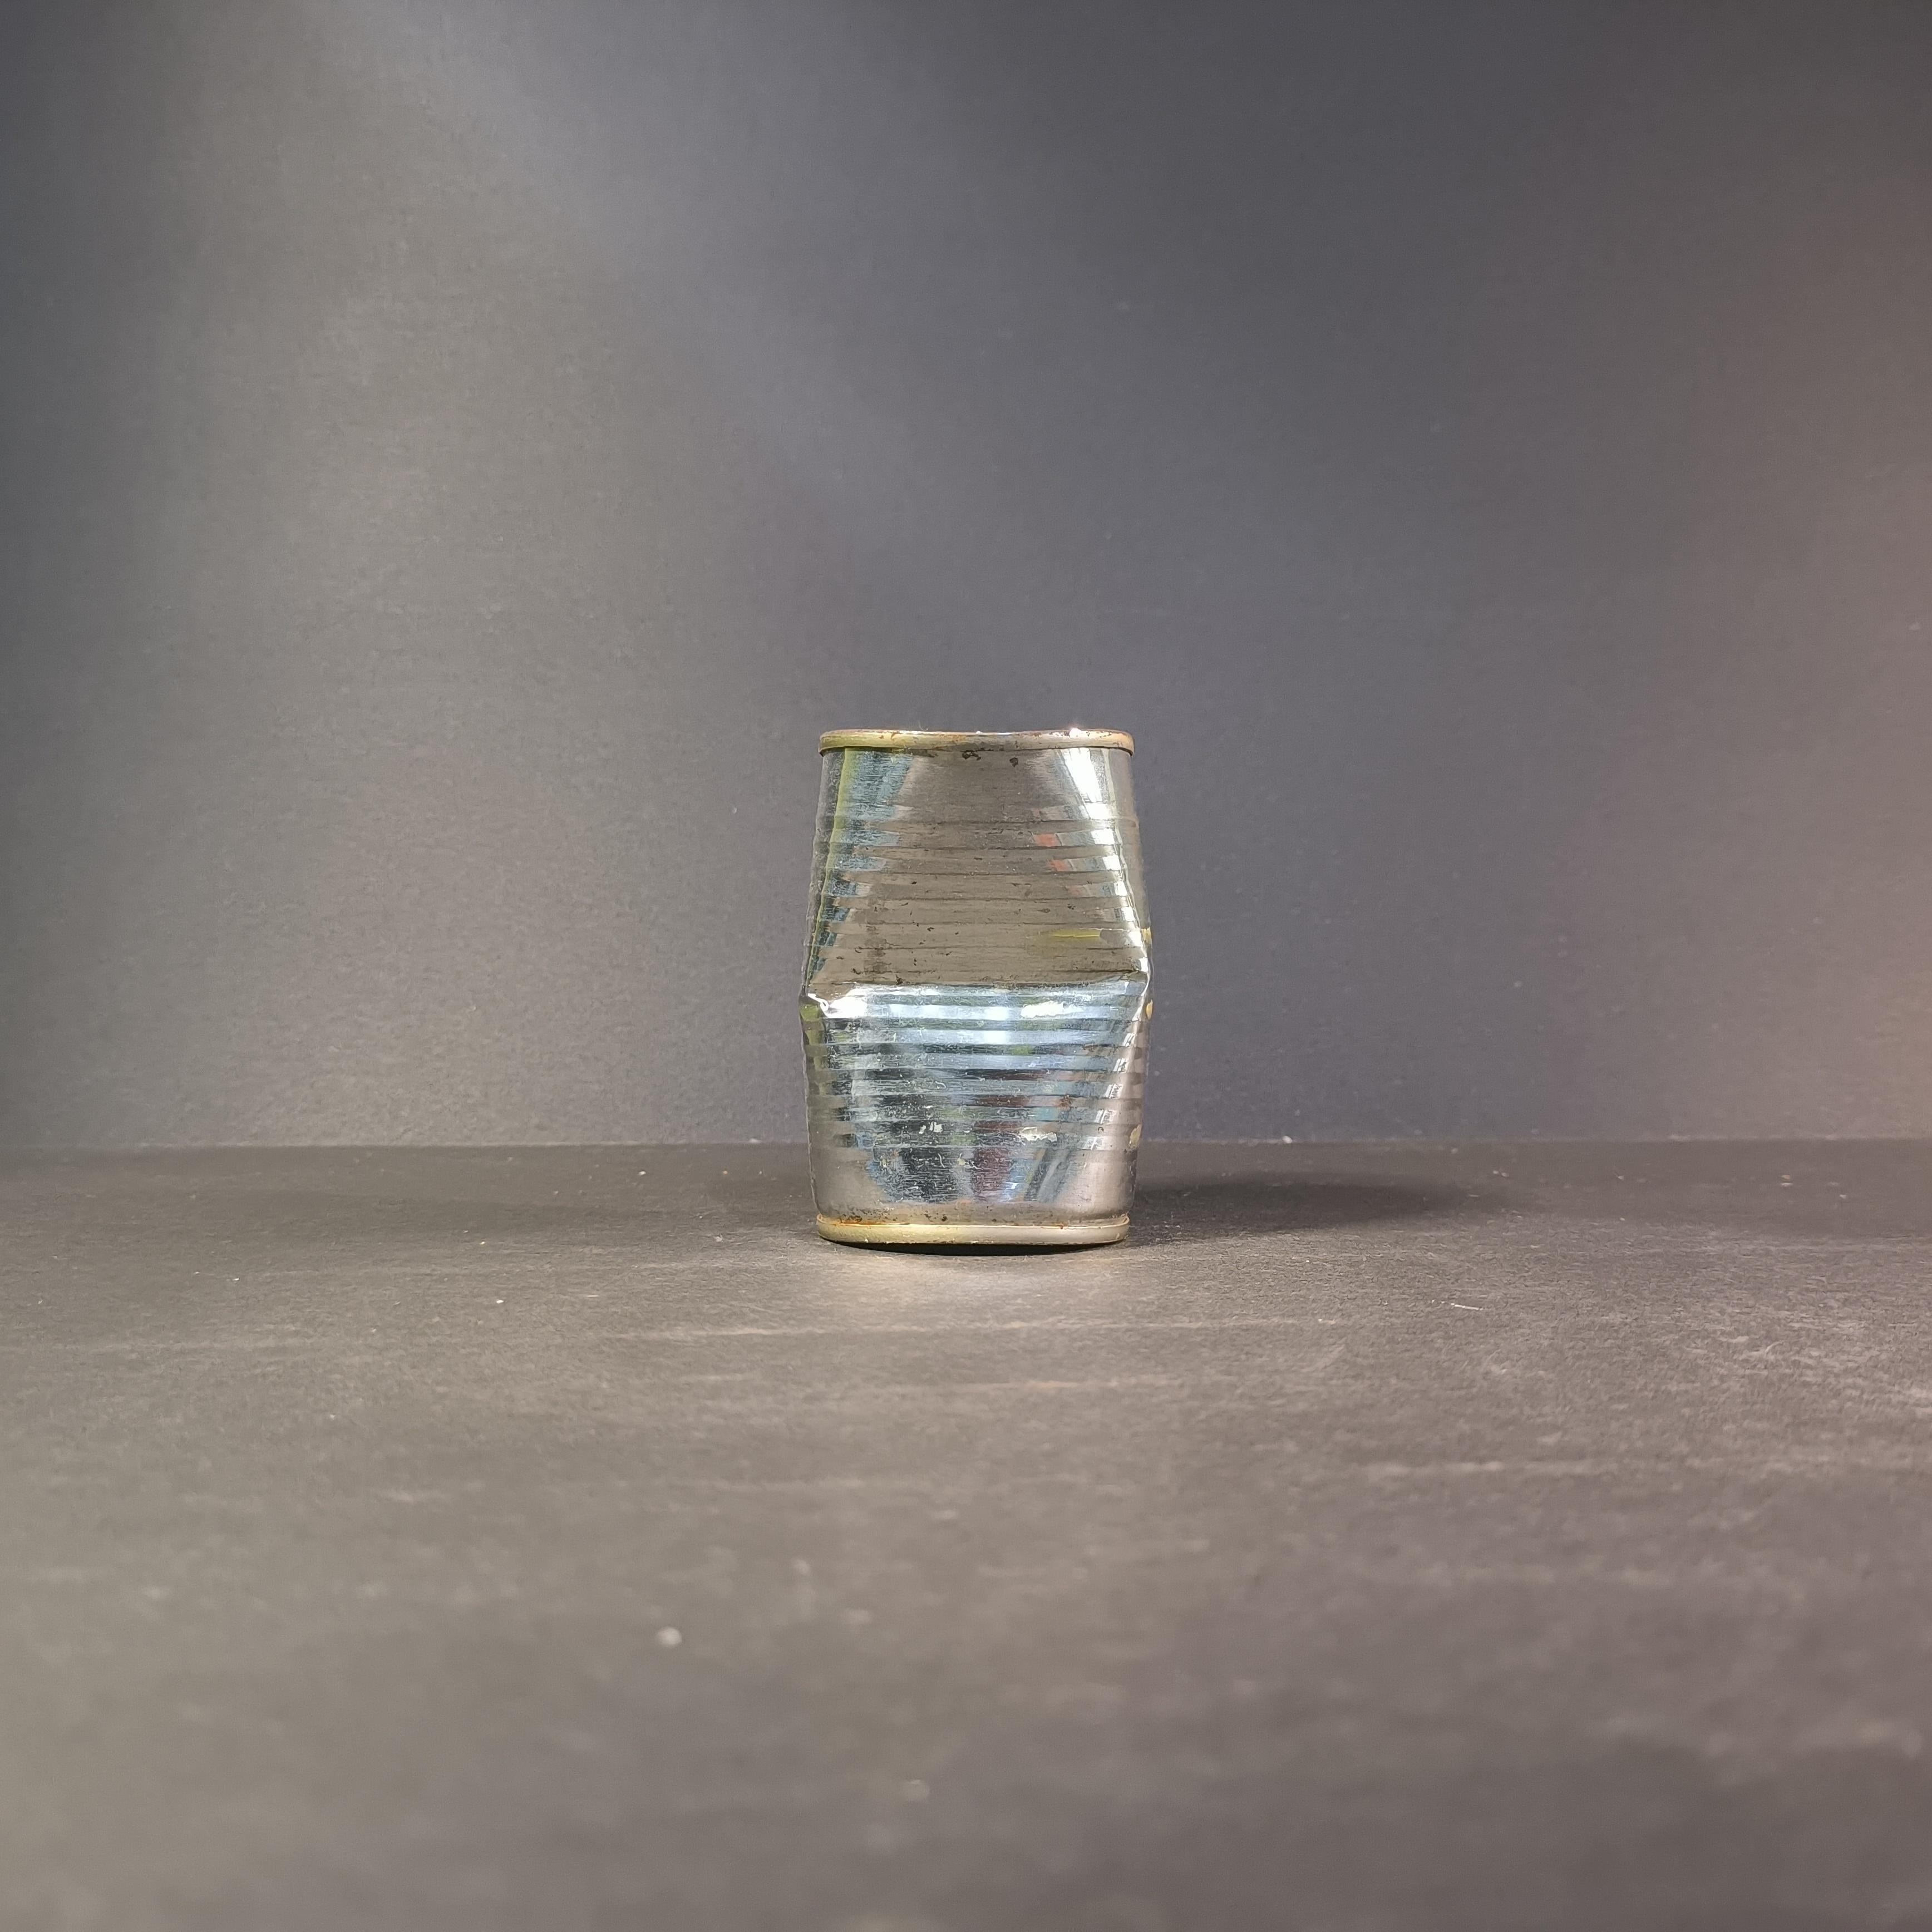Dented: (764, 699, 1168, 1279)
